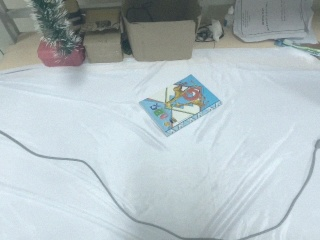book: (138, 72, 223, 138)
box: (122, 1, 201, 63)
